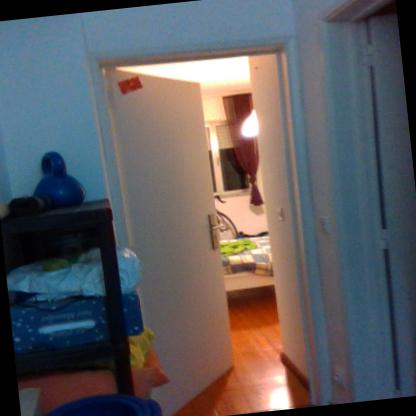semi: (93, 29, 337, 415)
